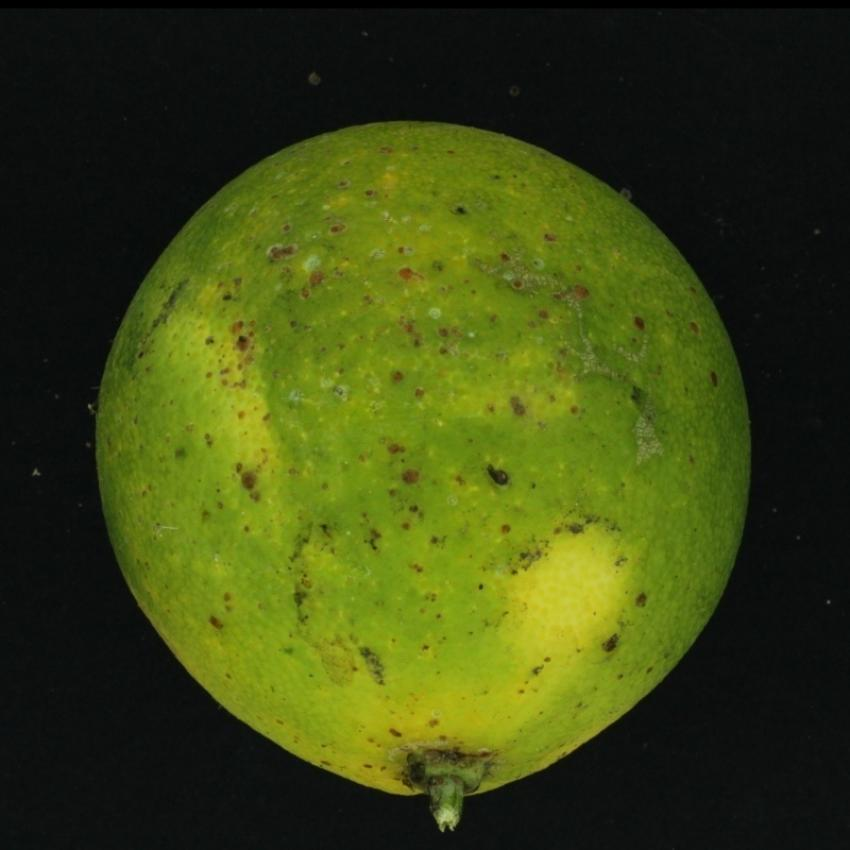Mal estado: (55, 97, 768, 836)
